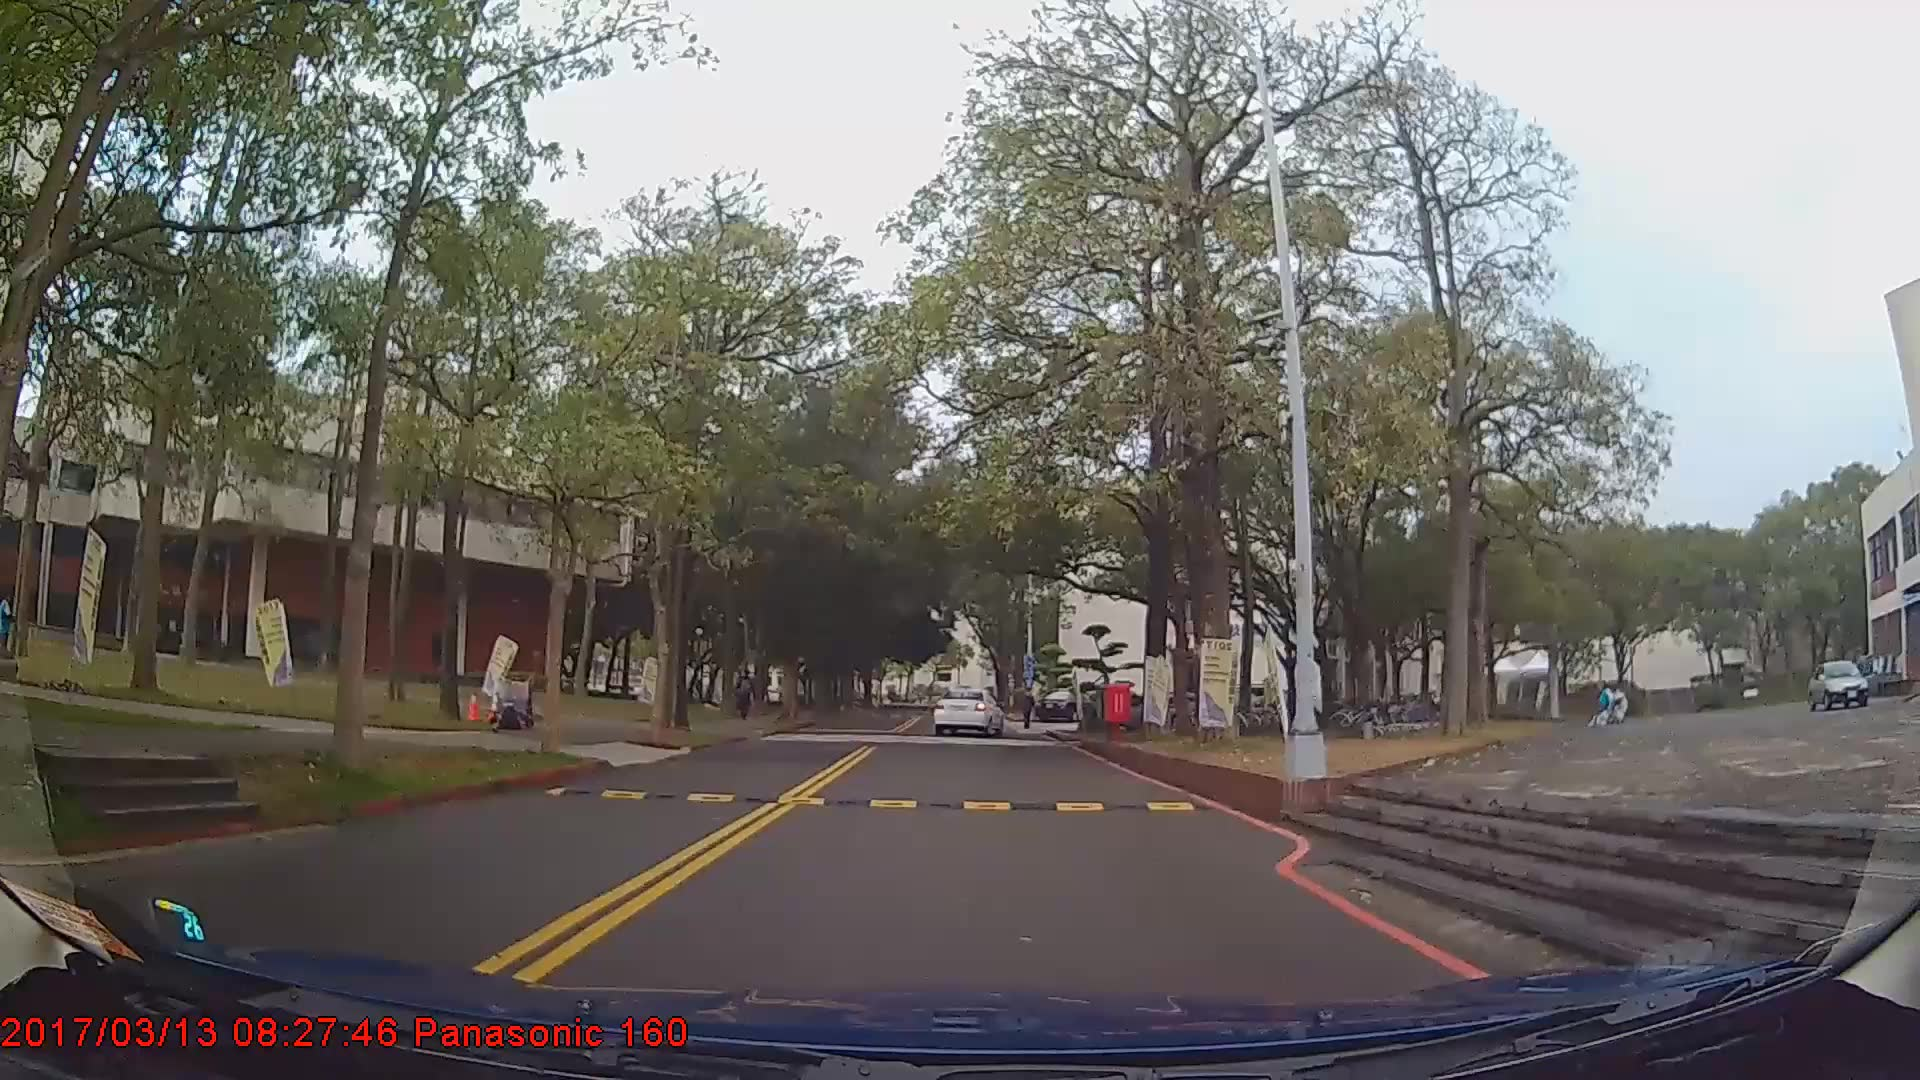pedestrian: (1, 582, 24, 682), (735, 670, 758, 724)
vehicle: (1804, 653, 1878, 711), (931, 689, 1004, 736), (1034, 688, 1089, 720)
